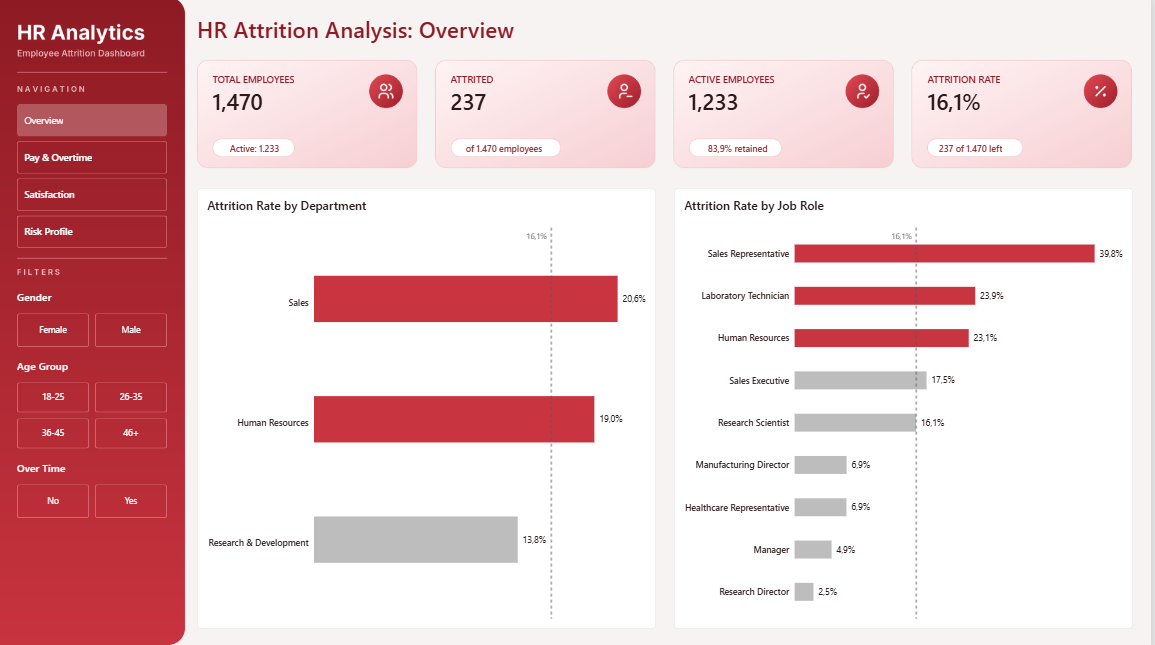

Layout of this report page (visuals, bound fields, positions):
{"tool":"powerbi","page":{"name":"Overview","canvas":[1920,1080],"ordinal":0},"visuals":[{"type":"textbox","box":[330,25,1000,60],"z":0},{"type":"cardVisual","title":"TOTAL EMPLOYEES","fields":{"Data":["Measure.Total Employees Card"]},"box":[330,105,280,125],"z":1000},{"type":"cardVisual","fields":{"Data":["Measure.Attrited"]},"box":[726.6,105,302,125.5],"z":2000},{"type":"cardVisual","fields":{"Data":["Measure.Active Employees Card"]},"box":[1123.4,105,383.7,125.5],"z":3000},{"type":"cardVisual","fields":{"Data":["Measure.Attrition Rate"]},"box":[1521.7,105,367.7,125.5],"z":4000},{"type":"clusteredBarChart","fields":{"Category":["DimDepartment.Department"],"Y":["Measure.Attrition Rate"]},"box":[330,315,765,735],"z":5000},{"type":"clusteredBarChart","title":"Attrition Rate by Job Role","fields":{"Category":["DimJobRole.JobRole"],"Y":["Measure.Attrition Rate"]},"box":[1125,315,765,735],"z":6000},{"type":"advancedSlicerVisual","fields":{"Values":["HR.Gender"]},"box":[30,485,250,95],"z":7000},{"type":"advancedSlicerVisual","title":"Age Group","fields":{"Values":["HR.AgeGroup"]},"box":[30,600,250,150],"z":8000},{"type":"advancedSlicerVisual","title":"Over Time","fields":{"Values":["HR.OverTime"]},"box":[30,770,250,95],"z":9000},{"type":"cardVisual","title":"TOTAL EMPLOYEES","fields":{"Data":["Measure.Ref Total"]},"box":[356,234,220,30],"z":10000},{"type":"cardVisual","title":"TOTAL EMPLOYEES","fields":{"Data":["Measure.Ref Rate"]},"box":[1537.8,233.4,154.7,30.6],"z":11000},{"type":"cardVisual","title":"TOTAL EMPLOYEES","fields":{"Data":["Measure.Ref Active"]},"box":[1154,233.4,135.7,30.6],"z":12000},{"type":"cardVisual","title":"TOTAL EMPLOYEES","fields":{"Data":["Measure.Ref Attrited"]},"box":[749.9,233.4,220,30],"z":13000},{"type":"pageNavigator","box":[30,175,250,240],"z":14000}]}

Visuals, with their boxes in screenshot pixels (x1, y1, x2, y2), scaled from the page's 1920x1080 canvas onto the 1155x645 screenshot:
textbox: bbox=(199, 15, 800, 51)
"TOTAL EMPLOYEES" cardVisual: bbox=(199, 63, 367, 137)
cardVisual - Measure.Attrited: bbox=(437, 63, 619, 138)
cardVisual - Measure.Active Employees Card: bbox=(676, 63, 907, 138)
cardVisual - Measure.Attrition Rate: bbox=(915, 63, 1137, 138)
clusteredBarChart - DimDepartment.Department x Measure.Attrition Rate: bbox=(199, 188, 659, 627)
"Attrition Rate by Job Role" clusteredBarChart: bbox=(677, 188, 1137, 627)
advancedSlicerVisual - HR.Gender: bbox=(18, 290, 168, 346)
"Age Group" advancedSlicerVisual: bbox=(18, 358, 168, 448)
"Over Time" advancedSlicerVisual: bbox=(18, 460, 168, 517)
"TOTAL EMPLOYEES" cardVisual: bbox=(214, 140, 346, 158)
"TOTAL EMPLOYEES" cardVisual: bbox=(925, 139, 1018, 158)
"TOTAL EMPLOYEES" cardVisual: bbox=(694, 139, 776, 158)
"TOTAL EMPLOYEES" cardVisual: bbox=(451, 139, 583, 157)
pageNavigator: bbox=(18, 105, 168, 248)
